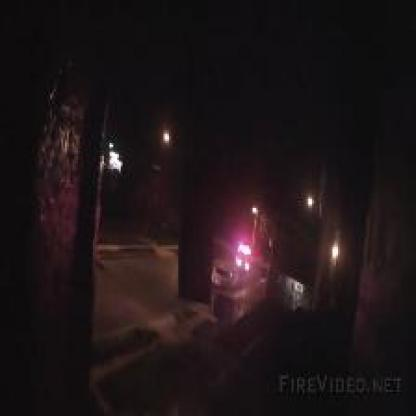other: (218, 202, 260, 282), (317, 236, 342, 268), (152, 125, 175, 152), (301, 188, 318, 224)
